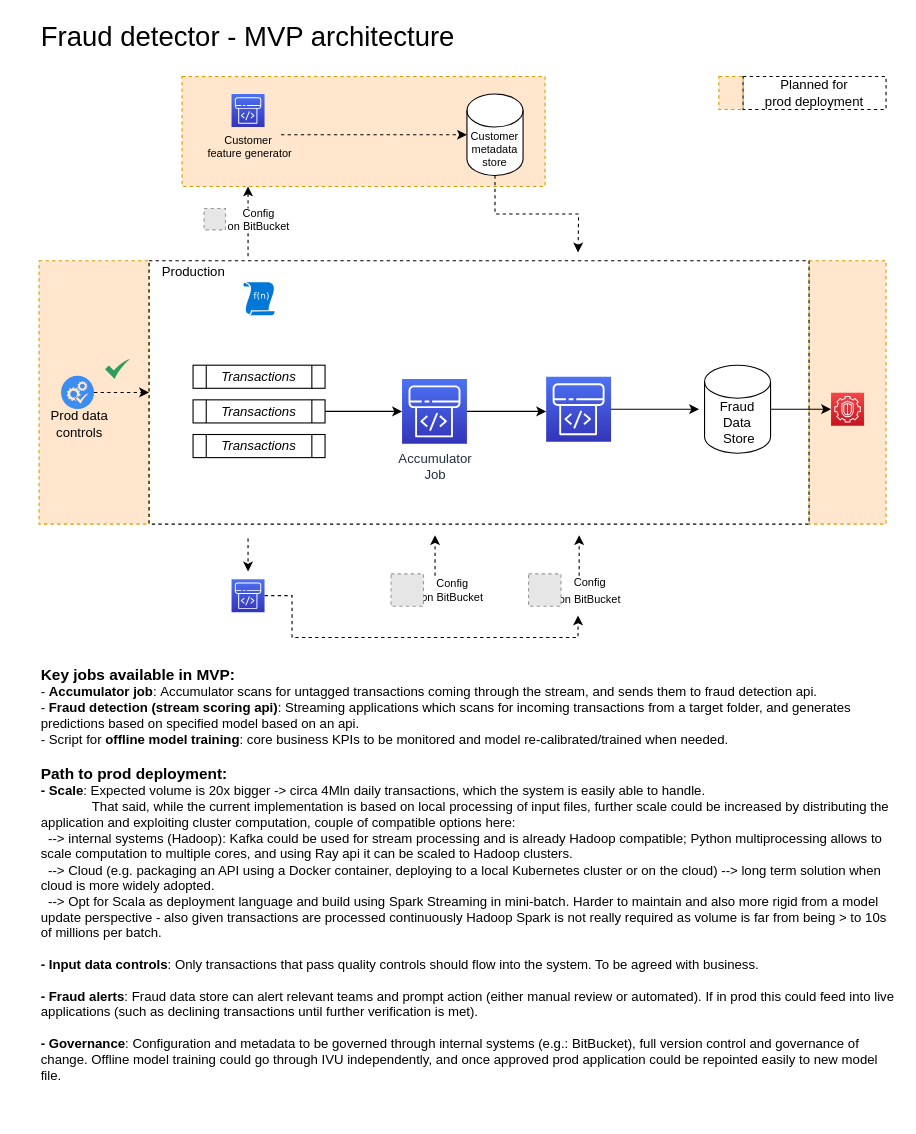
Image size: 916x1134. Some labels were removed from this diagram. Grey dashed boxes stand in for pictures. Here are the shapes that lost their labels. From the top down, the centre of each, then its label:
[258,298]: Exponential distribution with mean 1
[578,409]: Fraud detection API for feature engineering and live scoring
[847,409]: Alerts
[247,595]: Offline model training, calibration, IVU
